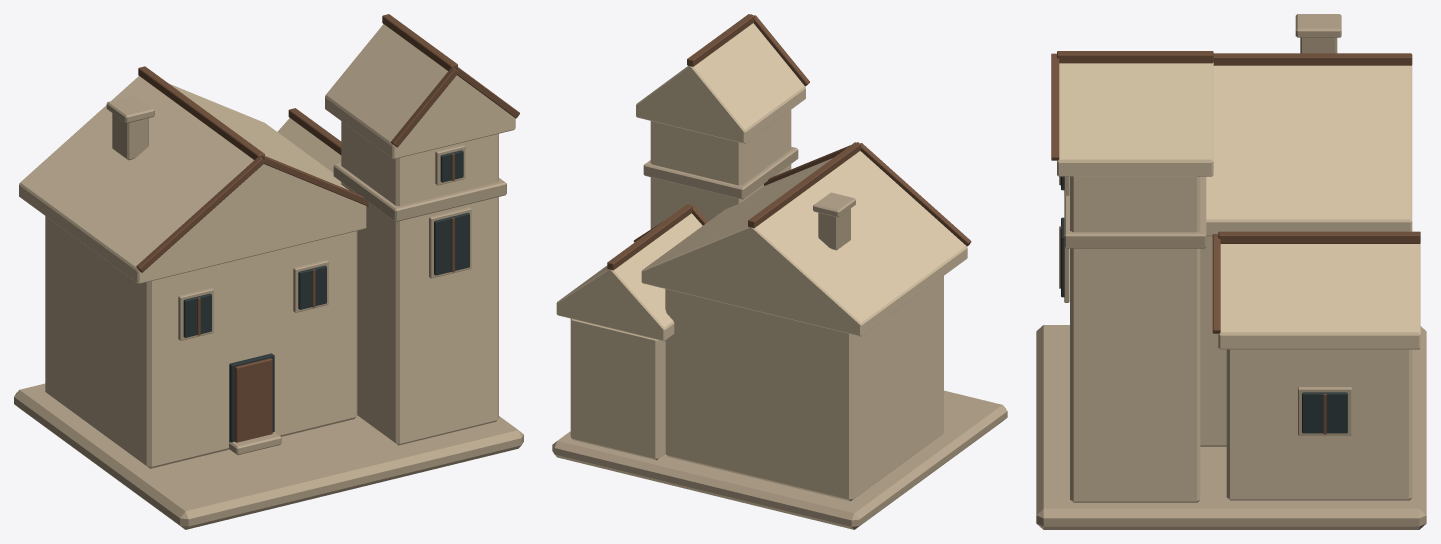
The model's file is city.glb.
3 views of the same model, side by side, from view 1: azimuth 30°, elevation 25°; view 2: azimuth 150°, elevation 25°; view 3: azimuth 270°, elevation 25° (orthographic). The views are drawn at different scales.
Visible parts, largest first — view 1: City_Asset; view 2: City_Asset; view 3: City_Asset.
Boxes of the visible parts, box(x1,y1,x2,y2) form: City_Asset: box(14, 14, 523, 529); City_Asset: box(552, 14, 1007, 529); City_Asset: box(1036, 14, 1426, 529).
Size of the model in its own units: 0.5004 by 0.5465 by 0.434.
